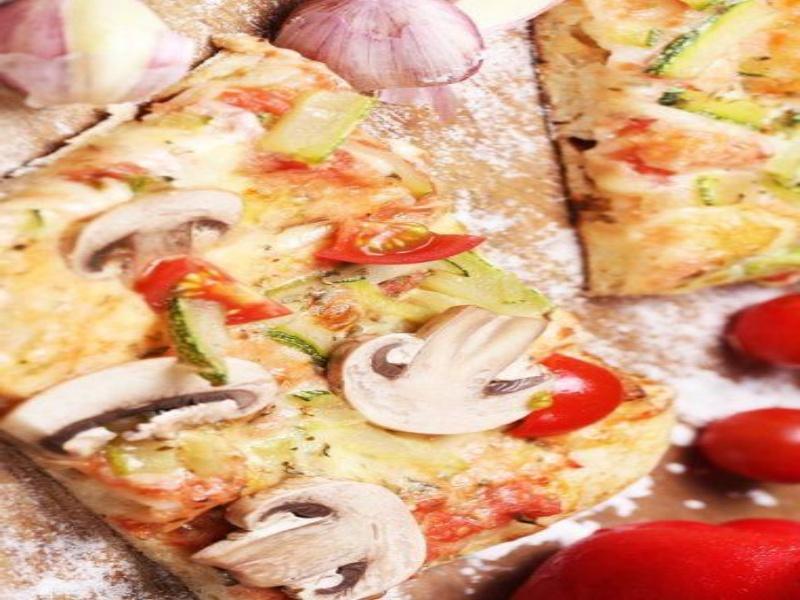champignon: (328, 293, 569, 441), (172, 475, 435, 600)
